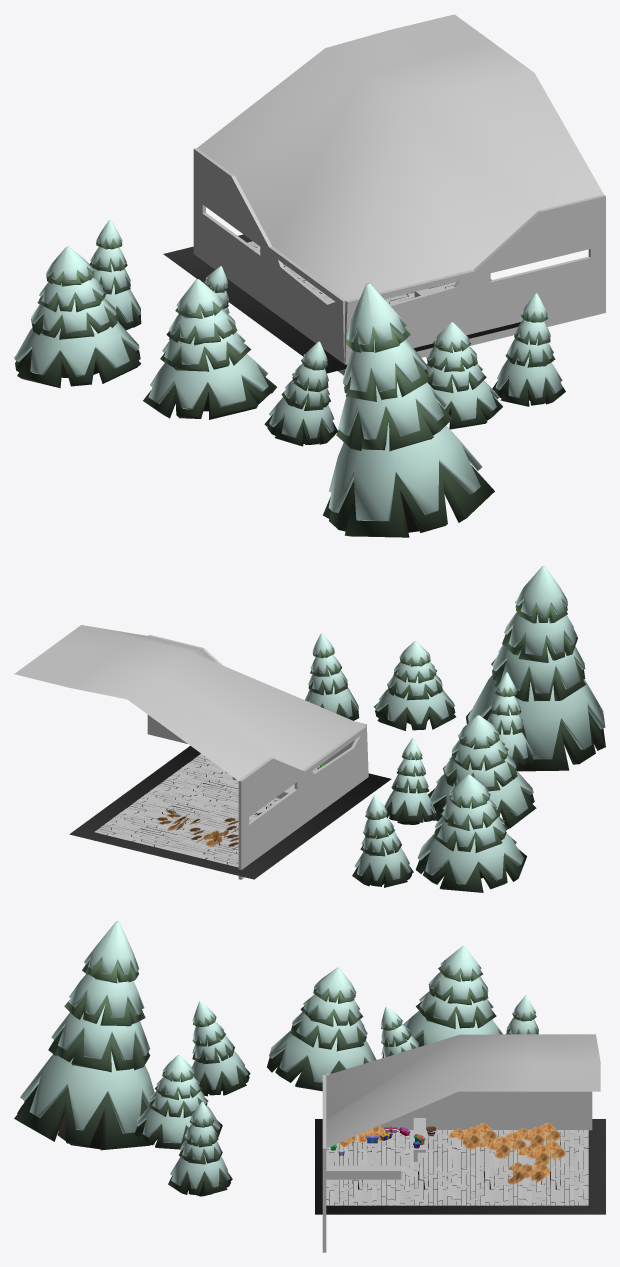
File: Pen_Updated.gltf
3 views of the same model, one above another, from view 1: azimuth 30°, elevation 25°; view 2: azimuth 150°, elevation 25°; view 3: azimuth 270°, elevation 25° (orthographic). The views are drawn at different scales.
Parts seen in each view (by area): view 1: Plane, Cylinder.005, Plane.015, Plane.014, Cylinder.001, Cylinder.017, Cylinder.003, Cylinder.004, Cylinder.008, Plane.001, Cylinder.002; view 2: Plane, Cylinder.005, Floor, Plane.014, Cylinder.001, Plane.001, Cylinder.017, Cylinder.003, Cylinder.002, Cylinder.018, Cylinder.004, Cylinder.008 (+2 smaller); view 3: Cylinder.005, Plane, Floor, Cylinder.017, Plane.001, Plane.014, Cylinder.001, Cylinder.003, Cylinder.004, Cylinder.008, Hay, Cylinder.018 (+3 smaller).
Part boxes in pixels (x1,y1,x2,y2): Plane: (197, 14, 603, 300); Cylinder.005: (323, 283, 494, 537); Plane.015: (343, 194, 605, 375); Plane.014: (193, 148, 345, 374); Cylinder.001: (14, 246, 140, 388); Cylinder.017: (143, 279, 276, 419); Cylinder.003: (426, 322, 502, 429); Cylinder.004: (492, 293, 565, 406); Cylinder.008: (264, 341, 337, 446); Plane.001: (163, 234, 520, 373); Cylinder.002: (90, 220, 141, 330); Plane: (14, 625, 363, 780); Cylinder.005: (466, 566, 605, 771); Floor: (94, 753, 319, 867); Plane.014: (238, 725, 367, 879); Cylinder.001: (415, 774, 526, 892); Plane.001: (69, 746, 391, 879); Cylinder.017: (428, 715, 536, 829); Cylinder.003: (374, 641, 455, 730); Cylinder.002: (352, 795, 413, 887); Cylinder.018: (384, 738, 436, 824); Cylinder.004: (305, 633, 359, 720); Cylinder.008: (487, 672, 533, 767); Cylinder.005: (14, 921, 154, 1150); Plane: (326, 1034, 600, 1148); Floor: (326, 1129, 588, 1205); Cylinder.017: (267, 967, 376, 1091); Plane.001: (315, 1119, 605, 1214); Plane.014: (326, 1073, 592, 1130); Cylinder.001: (403, 946, 502, 1046); Cylinder.003: (134, 1055, 222, 1149); Cylinder.004: (168, 1101, 232, 1196); Cylinder.008: (192, 1001, 250, 1096); Hay: (456, 1122, 566, 1184); Cylinder.018: (380, 1006, 420, 1057).
Bounding box in the file's own units: 34.95 × 15.24 × 38.82.
